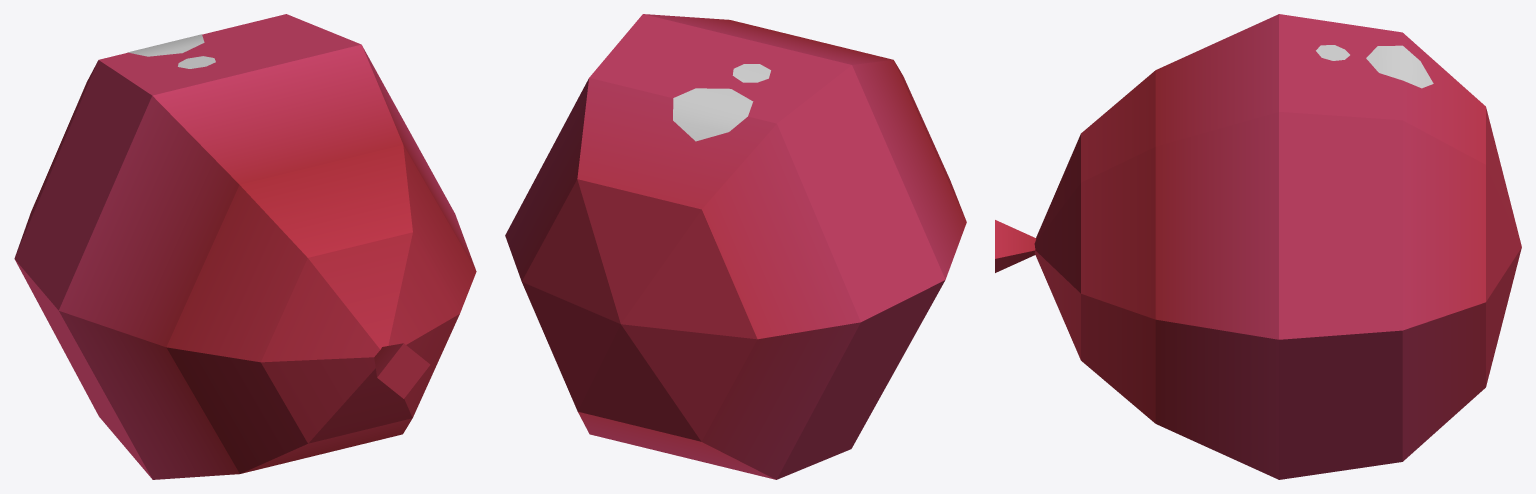
Rendered from HolidayBalloonRed.fbx.
3 views of the same model, side by side, from view 1: azimuth 30°, elevation 25°; view 2: azimuth 150°, elevation 25°; view 3: azimuth 270°, elevation 25° (orthographic). The views are drawn at different scales.
Parts seen in each view (by area): view 1: HolidayBalloonRed; view 2: HolidayBalloonRed; view 3: HolidayBalloonRed.
Boxes of the visible parts, x1=… form: HolidayBalloonRed: x1=14, y1=14, x2=476, y2=479; HolidayBalloonRed: x1=505, y1=14, x2=966, y2=479; HolidayBalloonRed: x1=995, y1=14, x2=1521, y2=479.
Bounding box in the file's own units: 54.73 × 50.71 × 65.74.
